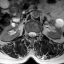CCS_normal: (31, 28, 33, 41)
LFS_normal: (36, 29, 38, 38)
LLS_normal: (33, 29, 36, 38)
RFS_normal: (26, 29, 28, 38)
RLS_normal: (28, 29, 31, 38)
